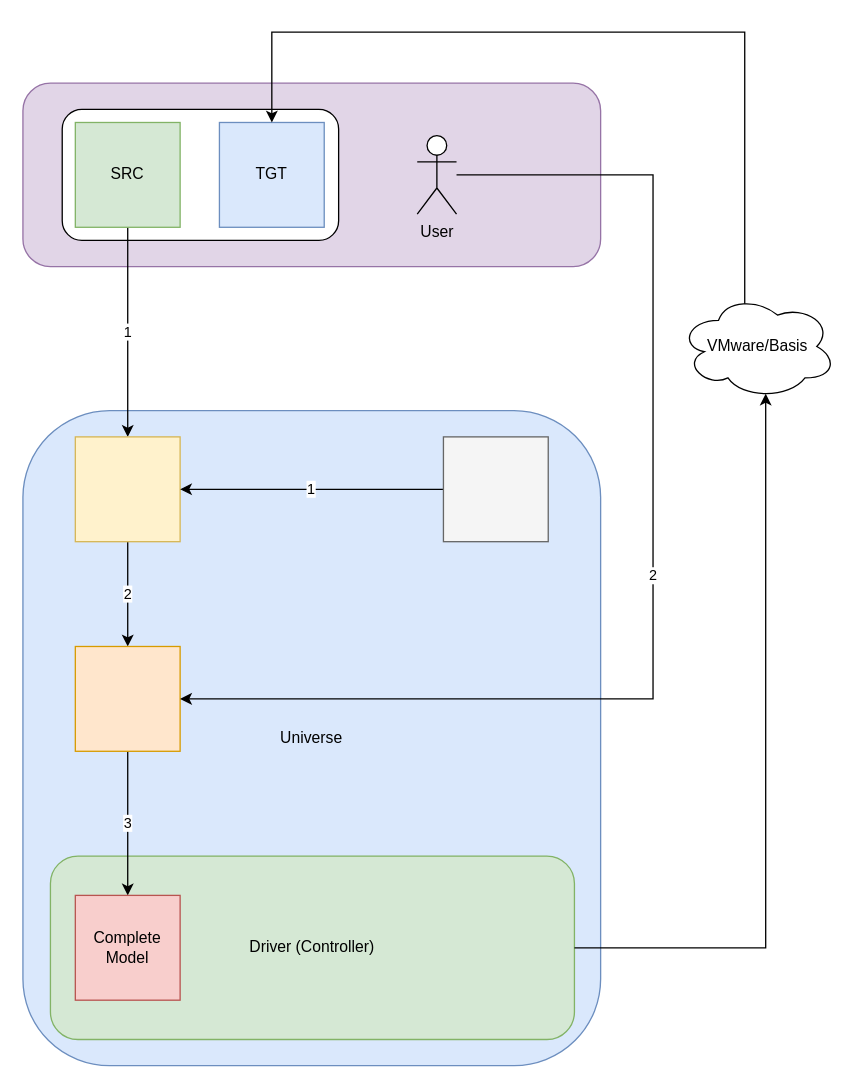
This 859x1089 diagram has some shape labels left out. Each missing label, with the centre of its shape:
"Base Model" belongs at (127,698).
"Placement" belongs at (495,489).
"Proto Model" belongs at (127,489).
